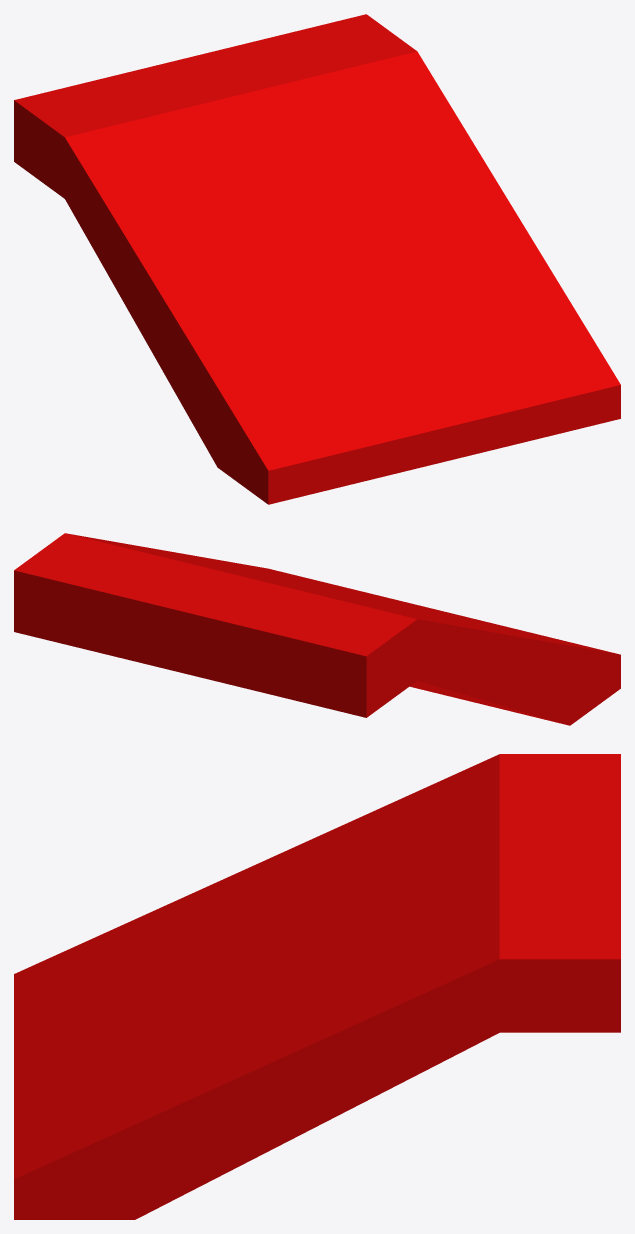
Rendered from StairsColliders.FBX.
3 views of the same model, one above another, from view 1: azimuth 30°, elevation 25°; view 2: azimuth 150°, elevation 25°; view 3: azimuth 270°, elevation 25° (orthographic). The views are drawn at different scales.
Visible parts, largest first — view 1: Stairs_Dbl_Collider, Stairs_Collider; view 2: Stairs_Dbl_Collider, Stairs_Collider; view 3: Stairs_Dbl_Collider, Stairs_Collider.
Boxes of the visible parts, x1,y1,x2,y2 form: Stairs_Dbl_Collider: (14,14,620,504); Stairs_Collider: (14,58,441,504); Stairs_Dbl_Collider: (14,533,620,725); Stairs_Collider: (194,577,618,709); Stairs_Dbl_Collider: (14,855,620,1219); Stairs_Collider: (14,754,620,1074).
Size of the model in its own units: 400 by 237 by 500.
